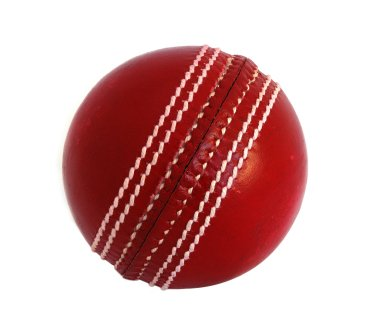red ball: (60, 45, 311, 294)
